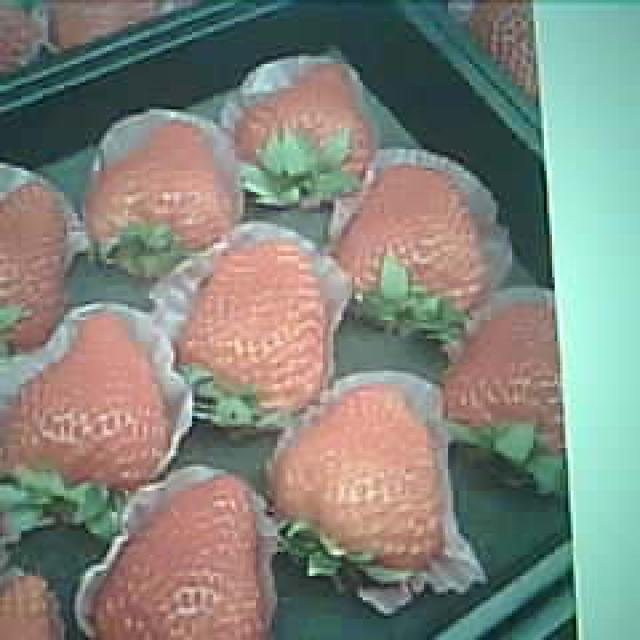strawberry: (274, 380, 442, 568), (6, 315, 172, 489), (93, 474, 266, 640), (180, 242, 330, 420), (338, 162, 484, 320), (88, 119, 230, 265), (448, 298, 566, 466), (238, 58, 370, 180)
